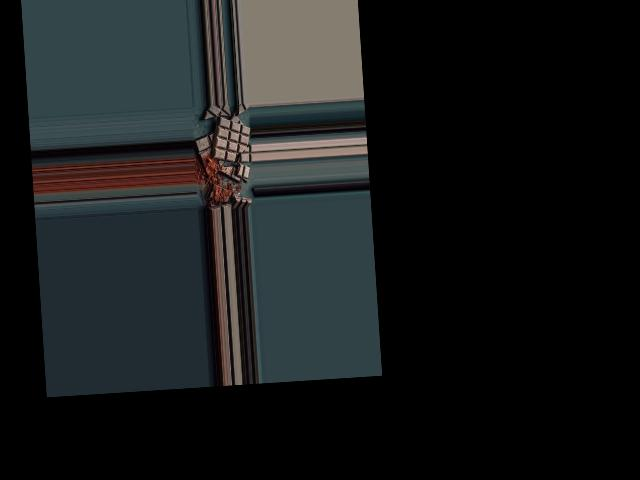chocolate: (209, 113, 252, 162)
